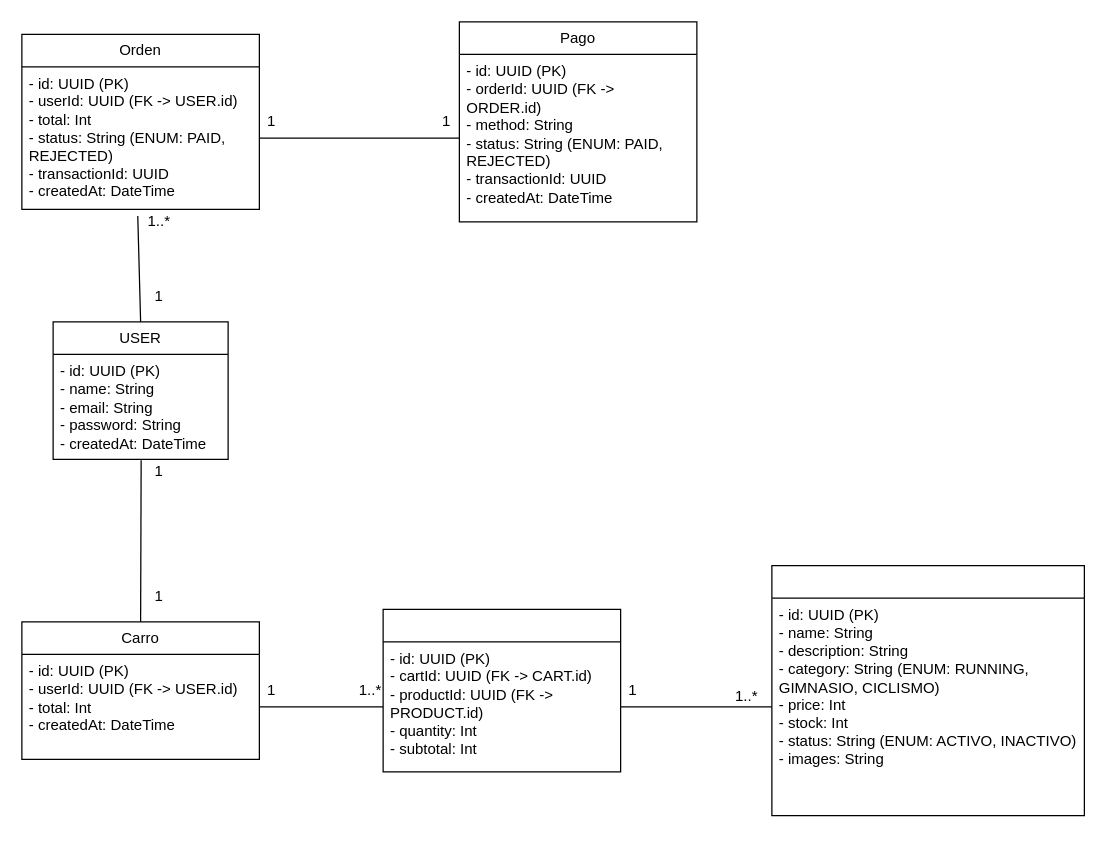
Image size: 1106x841. Some labels were removed from this diagram. The box of each missing label's shape, as (x1, y1, x2, y2) in pixels:
ItemCarro: (382, 608, 621, 772)
Producto: (771, 564, 1084, 816)
